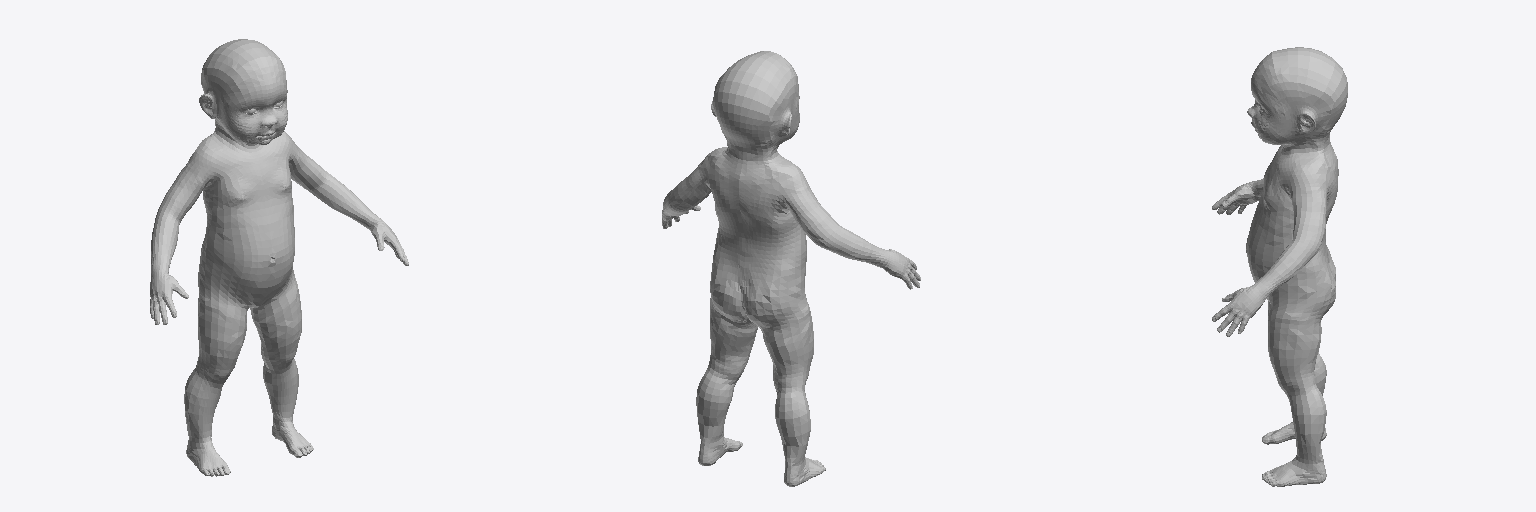
Rendered from babygeir.obj.
The picture shows the model from 3 angles: view 1: azimuth 30°, elevation 25°; view 2: azimuth 150°, elevation 25°; view 3: azimuth 270°, elevation 25°; orthographic projection.
Parts seen in each view (by area): view 1: base.obj; view 2: base.obj; view 3: base.obj.
Part boxes in pixels (left/top/right/bottom): base.obj: left=150, top=39, right=408, bottom=476; base.obj: left=662, top=51, right=920, bottom=486; base.obj: left=1212, top=47, right=1347, bottom=486.
Bounding box in the file's own units: 3.87 × 6.02 × 1.82.